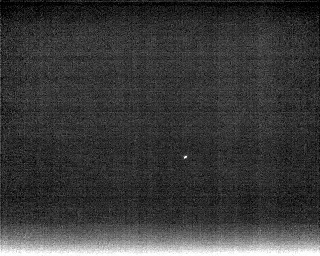BIRD: (181, 152, 190, 162)
